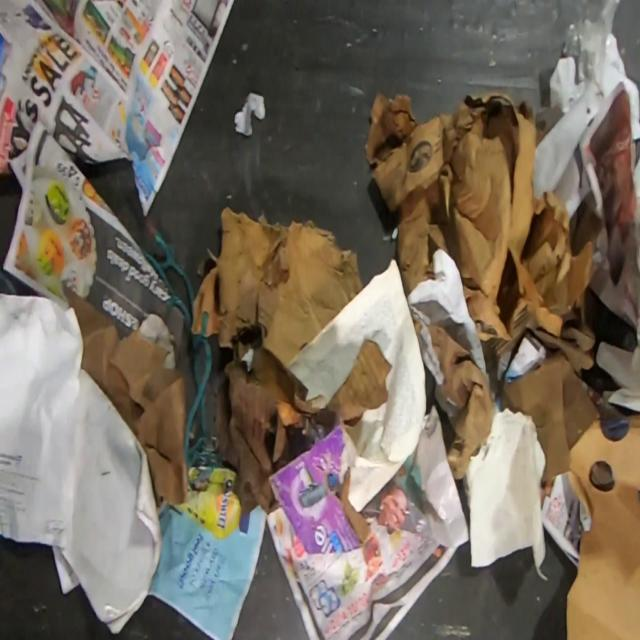cardboard: (365, 90, 640, 640), (190, 206, 363, 514), (322, 338, 393, 435)
soft_plastic: (562, 0, 620, 93)
